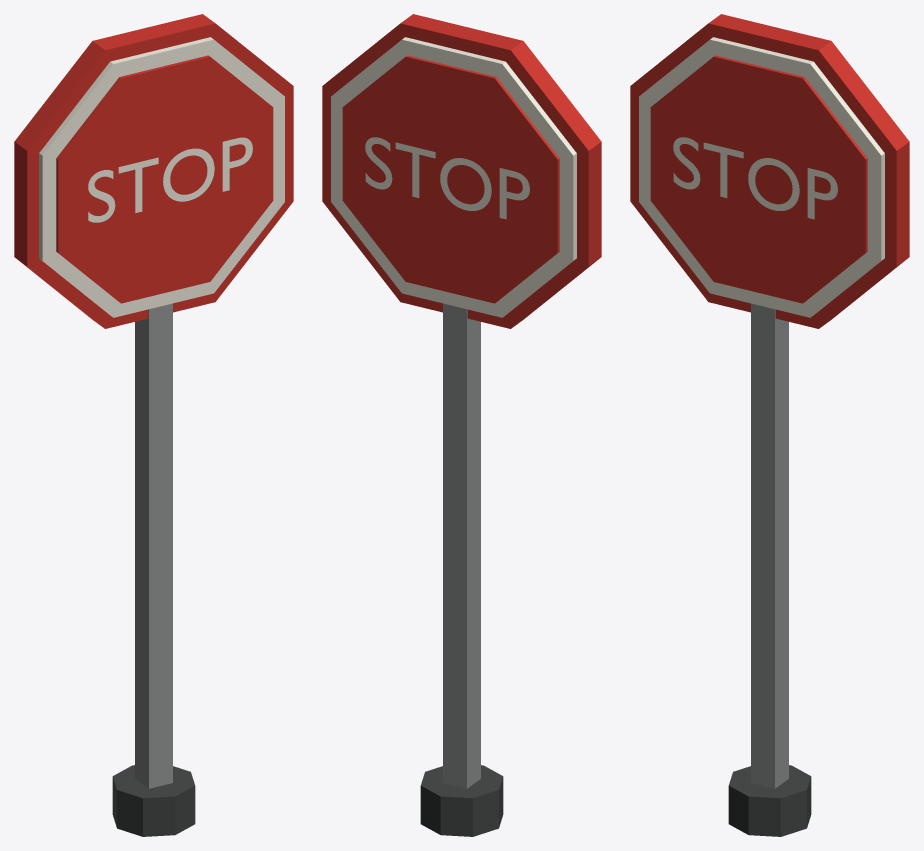
File: stop_sign.glb
3 renders of one model, left to right at view 1: azimuth 30°, elevation 25°; view 2: azimuth 150°, elevation 25°; view 3: azimuth 330°, elevation 25°, orthographic.
Visible parts, largest first — view 1: red_face_back, perforated_pole, stop_plate, white_border_back, ground_socket, STOP_front; view 2: red_face_front, perforated_pole, stop_plate, white_border_front, ground_socket, STOP_back; view 3: red_face_back, perforated_pole, stop_plate, white_border_back, ground_socket, STOP_front.
Boxes of the visible parts, x1,y1,x2,y2 form: red_face_back: [56, 55, 273, 303]; perforated_pole: [135, 303, 172, 788]; stop_plate: [14, 14, 293, 328]; white_border_back: [39, 37, 284, 317]; ground_socket: [112, 765, 195, 836]; STOP_front: [88, 137, 252, 222]; red_face_front: [342, 55, 559, 303]; perforated_pole: [443, 303, 480, 788]; stop_plate: [322, 14, 601, 328]; white_border_front: [331, 37, 576, 317]; ground_socket: [420, 765, 503, 836]; STOP_back: [365, 137, 529, 219]; red_face_back: [650, 55, 867, 303]; perforated_pole: [751, 303, 788, 788]; stop_plate: [630, 14, 909, 328]; white_border_back: [639, 37, 884, 317]; ground_socket: [728, 765, 811, 836]; STOP_front: [673, 137, 837, 219].
Size of the model in its own units: 1.44 by 4.07 by 0.4.
